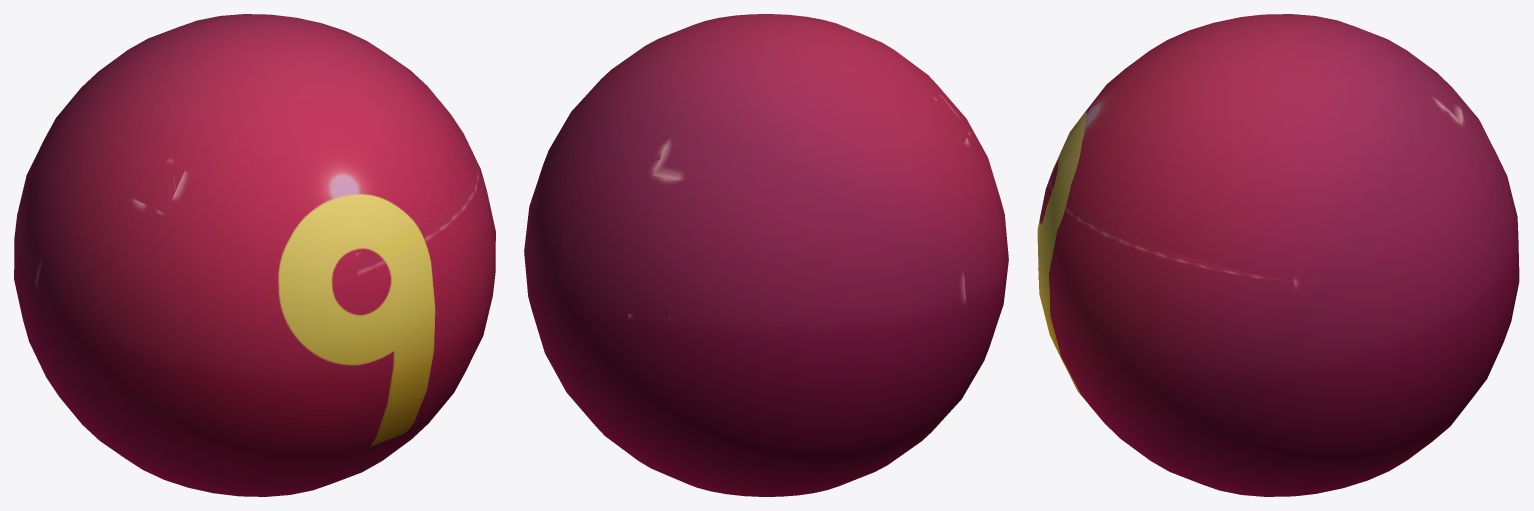
Rendered from Enemy 9.fbx.
The picture shows the model from 3 angles, left to right: view 1: azimuth 30°, elevation 25°; view 2: azimuth 150°, elevation 25°; view 3: azimuth 270°, elevation 25°; orthographic projection.
Parts seen in each view (by area): view 1: Body 1.008; view 2: Body 1.008; view 3: Body 1.008.
Part boxes in pixels (x1,y1,x2,y2): Body 1.008: (14, 14, 495, 496); Body 1.008: (524, 14, 1008, 496); Body 1.008: (1037, 14, 1519, 496).
Size of the model in its own units: 472 by 474 by 472.
1 material, 1 textured.
